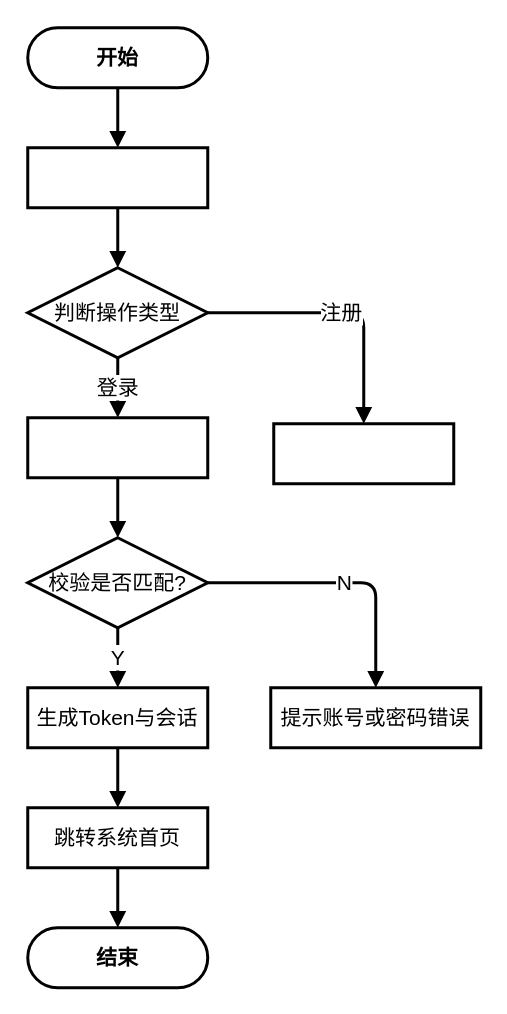
Image size: 507x1014. Some labels were removed from this diagram. Each missing label, with the centre of its shape:
"输入注册信息" belongs at pixel 363 453.
"输入账号密码" belongs at pixel 117 447.
"进入登录/注册界面" belongs at pixel 117 177.
